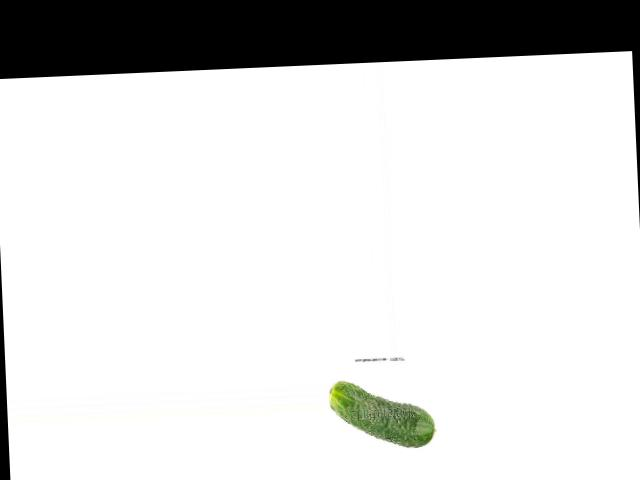cucumber: (329, 377, 436, 451)
